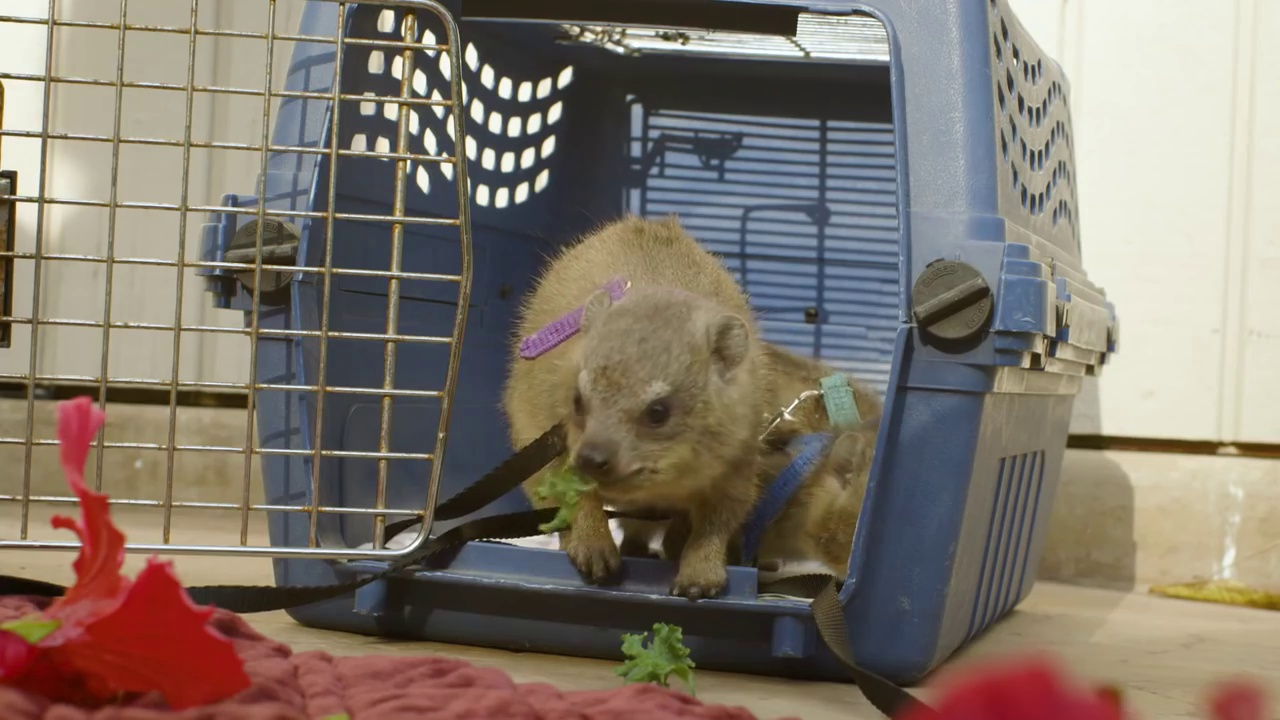Rock Hyrex: (511, 215, 752, 602)
